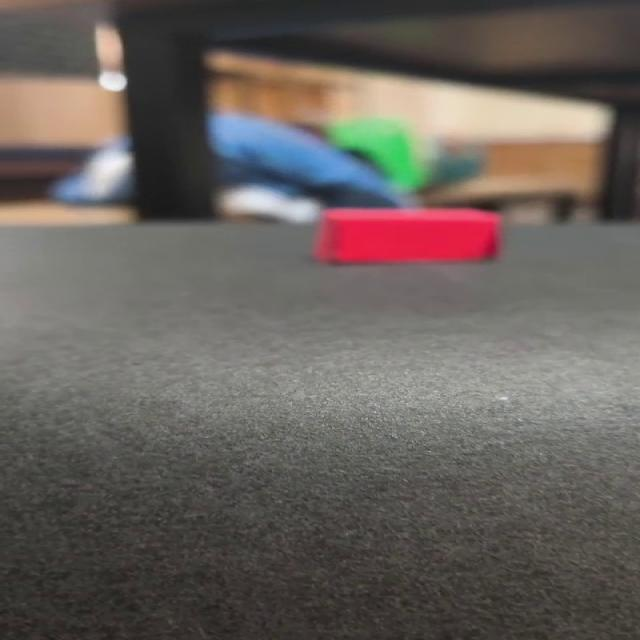red block: (312, 206, 503, 264)
